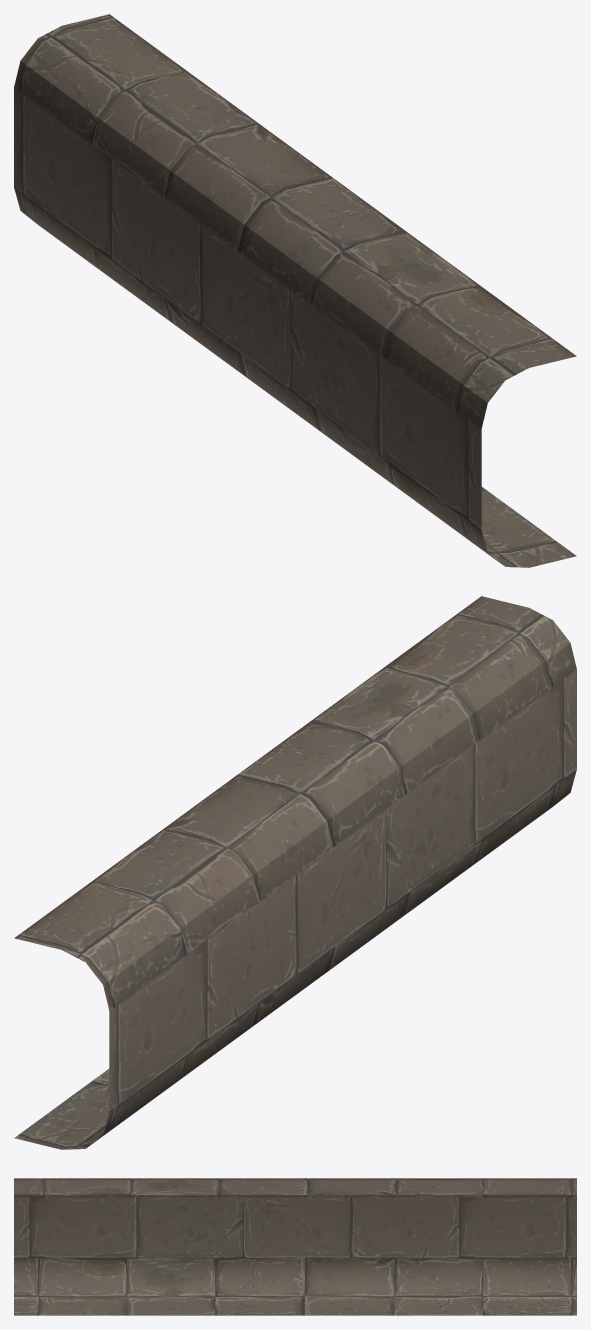
The model's file is Ruins_Ledge_Broken_02a.fbx.
3 renders of one model, top to bottom at view 1: azimuth 30°, elevation 25°; view 2: azimuth 150°, elevation 25°; view 3: azimuth 270°, elevation 25°, orthographic. The views are drawn at different scales.
Visible parts, largest first — view 1: Ruins_Ledge_Broken_02a; view 2: Ruins_Ledge_Broken_02a; view 3: Ruins_Ledge_Broken_02a.
Part boxes in pixels (<box>): Ruins_Ledge_Broken_02a: <box>14,14,576,567</box>; Ruins_Ledge_Broken_02a: <box>14,596,576,1149</box>; Ruins_Ledge_Broken_02a: <box>14,1178,576,1315</box>.
Size of the model in its own units: 0.5 by 1 by 4.24.
Materials: 1 (1 with a texture image).
